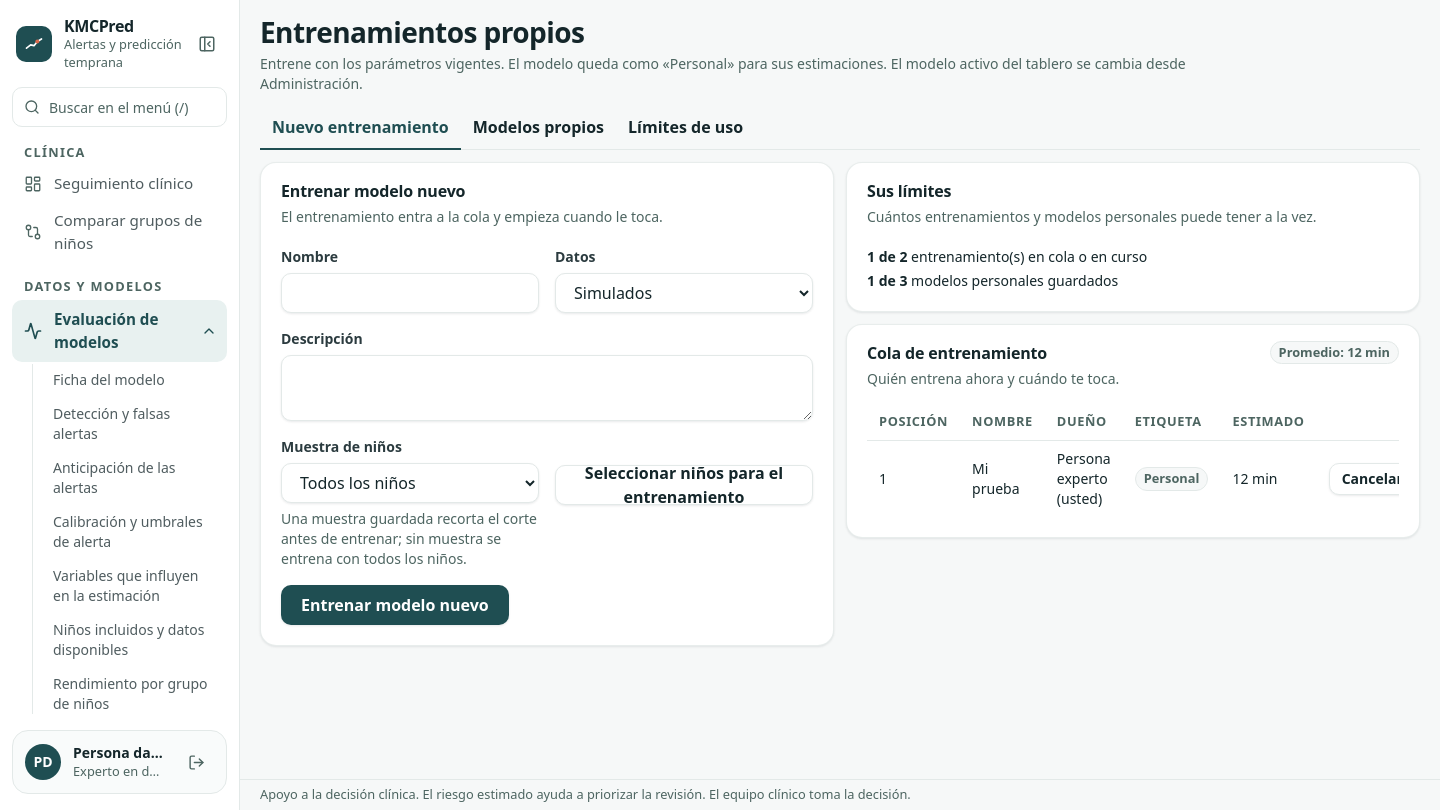
Test: Mis modelos en pestañas › armar una muestra reemplaza el formulario y cerrar lo devuelve con lo escrito
In the field labelled "Nombre": x=410, y=293 top-left (281, 273), bottom-right (539, 313), type "Prueba A"
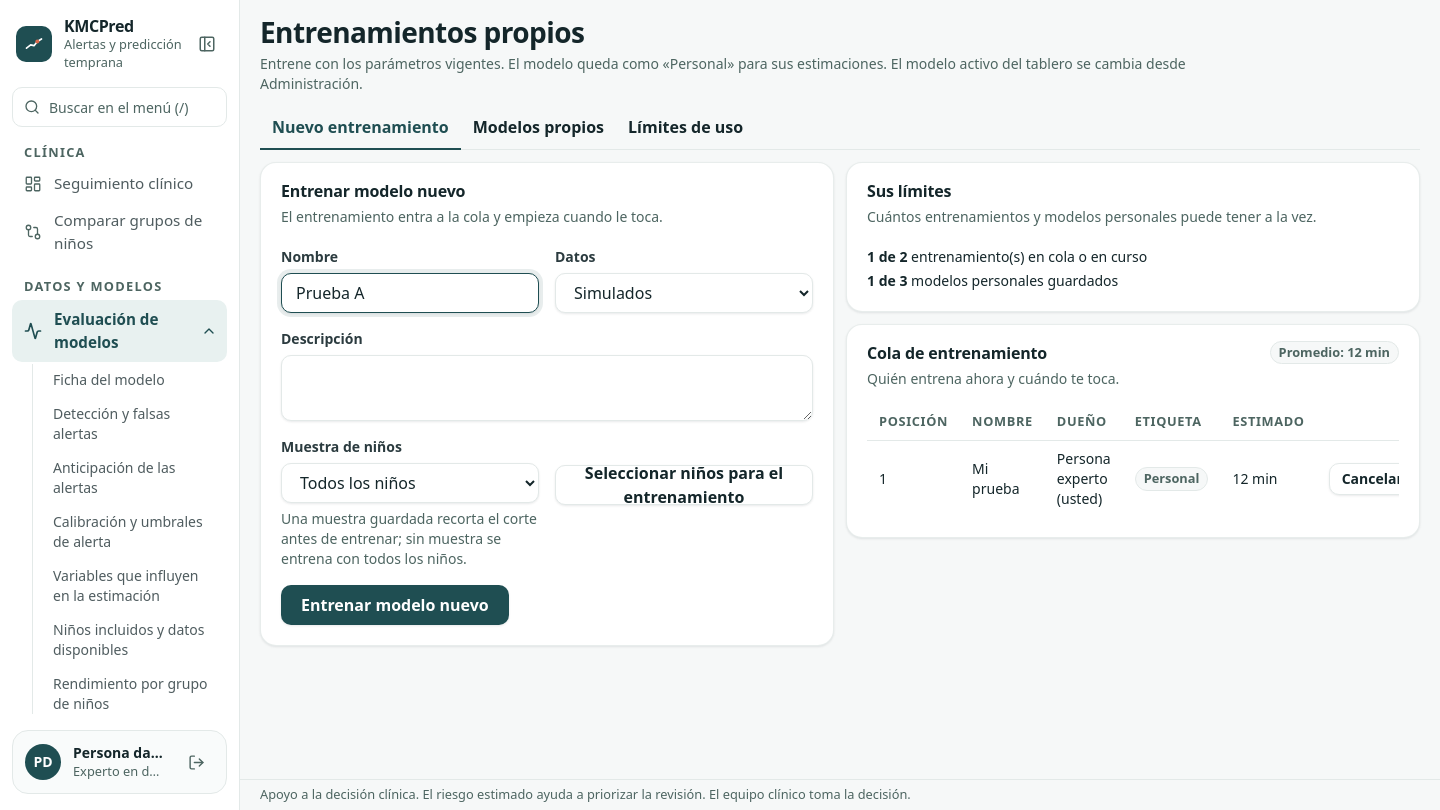
Click the button "Seleccionar niños para el entrenamiento": x=684, y=485 top-left (555, 465), bottom-right (813, 505)
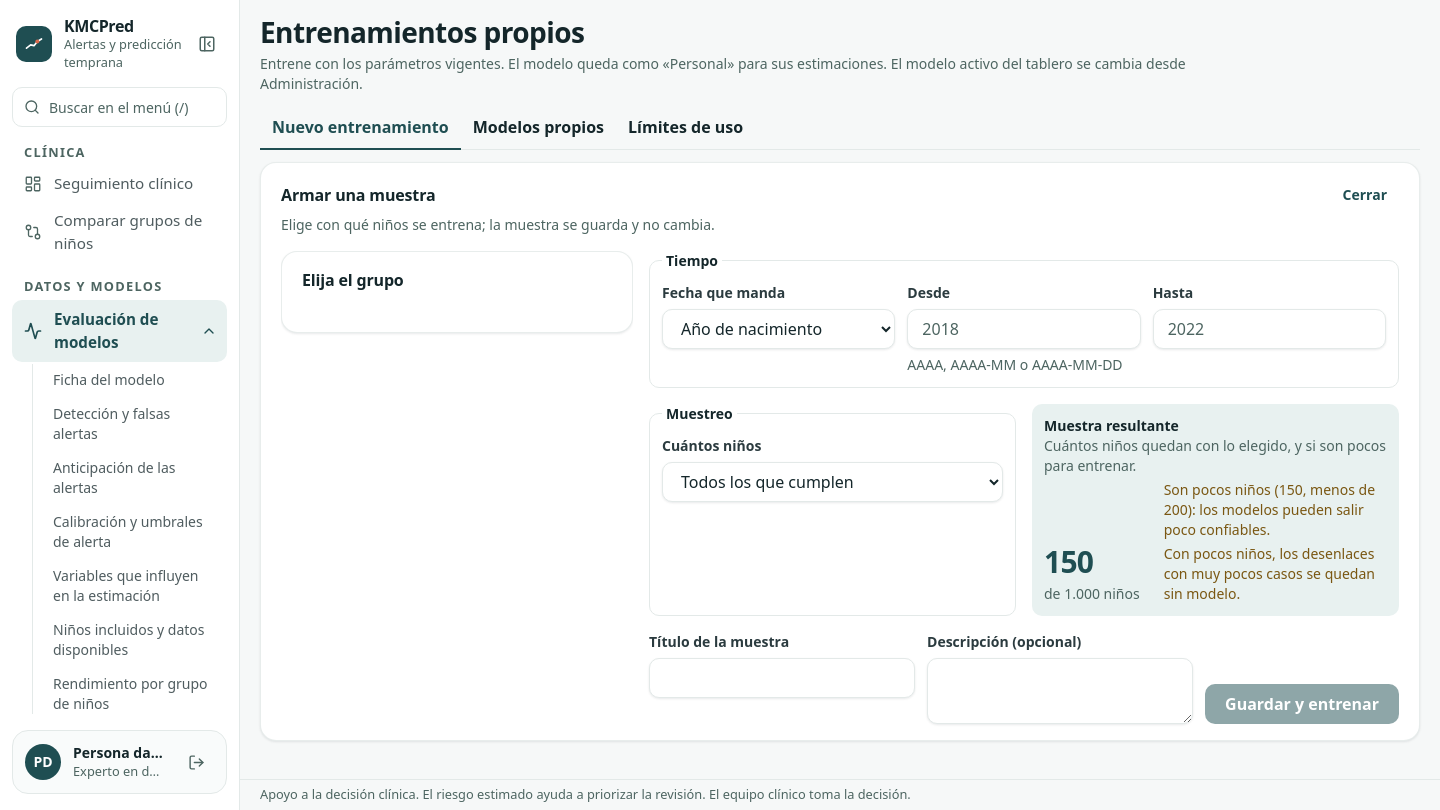
Expected: the heading "Entrenar modelo nuevo" is gone
Click the button "Cerrar": x=1365, y=195 top-left (1331, 179), bottom-right (1399, 211)
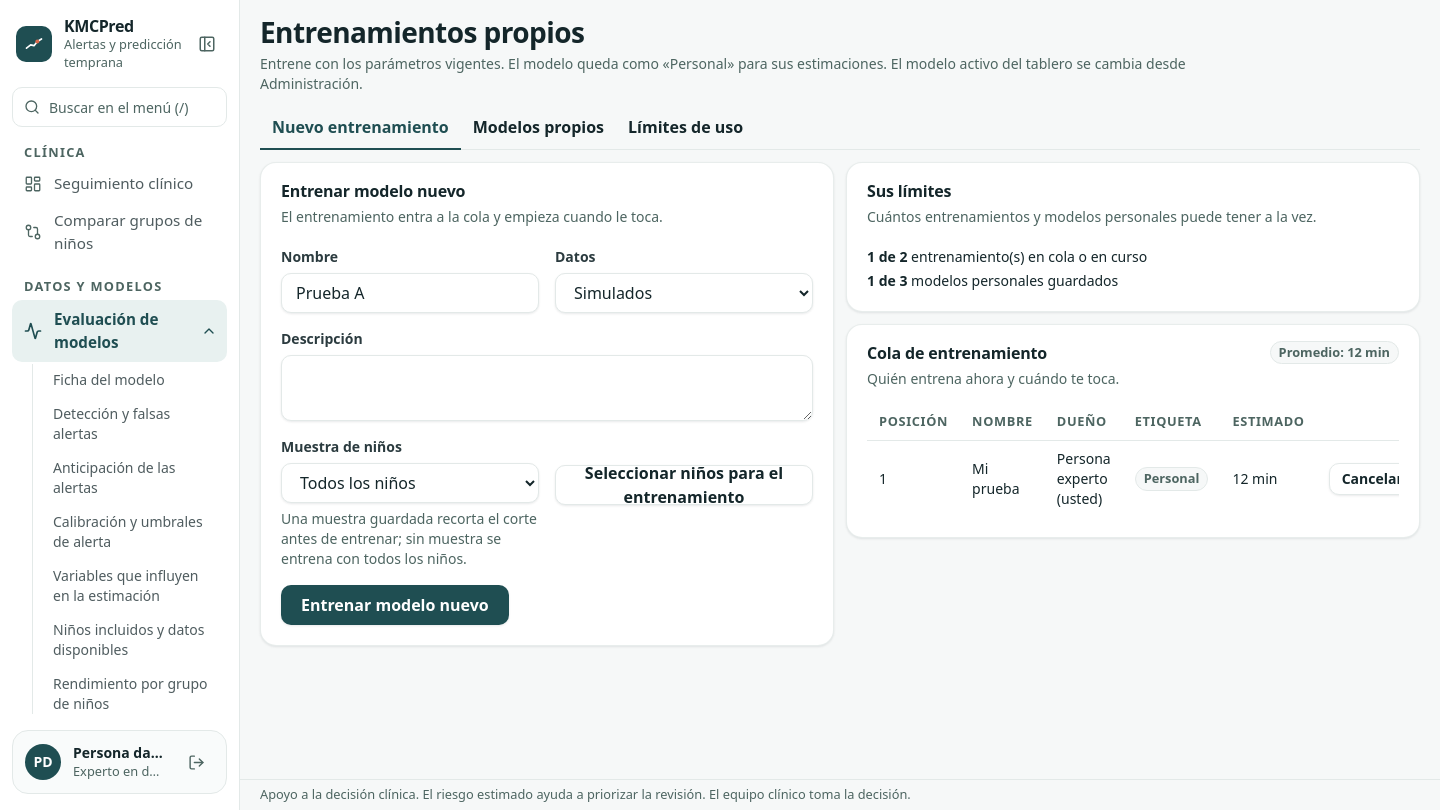
Expected: the field labelled "Nombre" holds "Prueba A", top-left (281, 273), bottom-right (539, 313)
